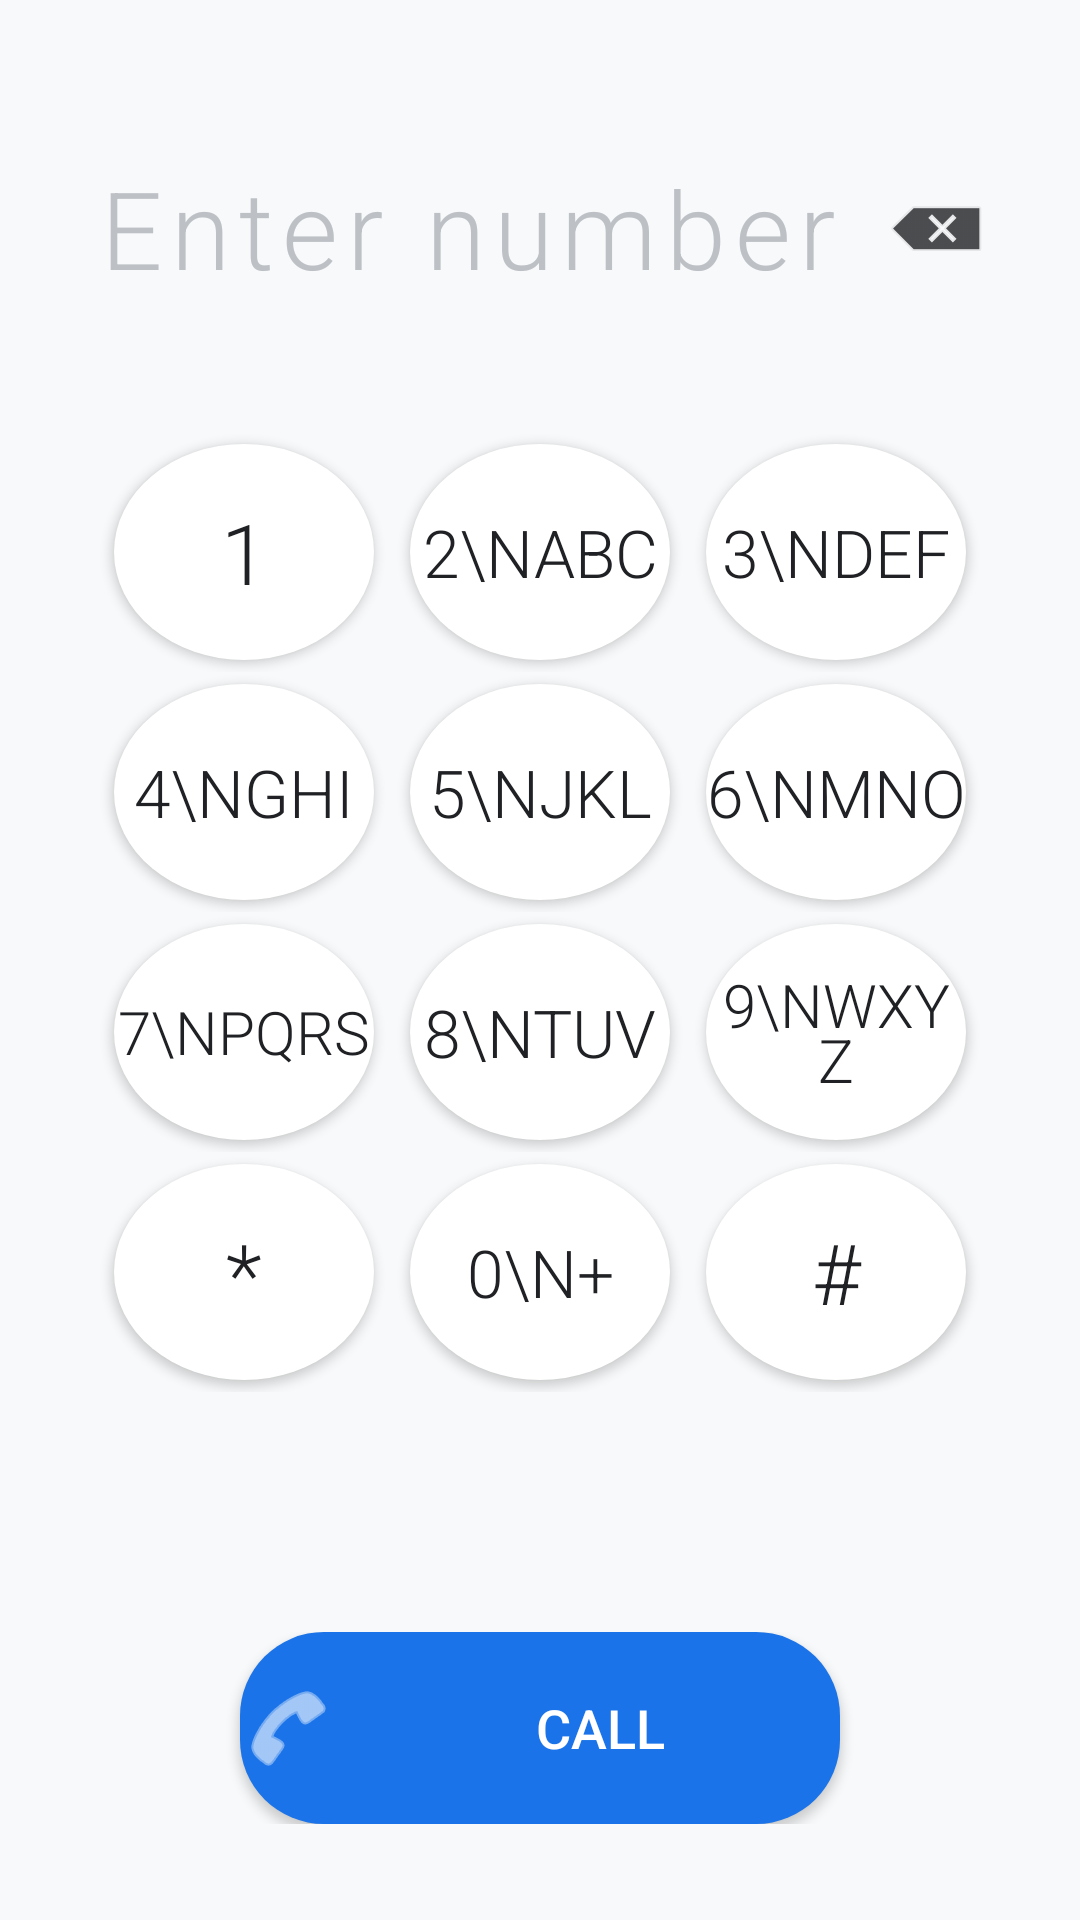

Locate icon controls on the screen. Image size 1080px x 1920px, boxes as (x1, y1, x2, y2).
Delete: (893, 208, 980, 250)
